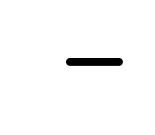minus: (66, 58, 123, 66)
